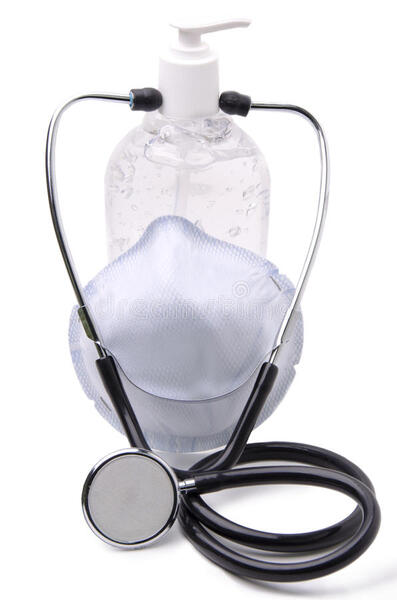sanitizer: (118, 5, 276, 259)
